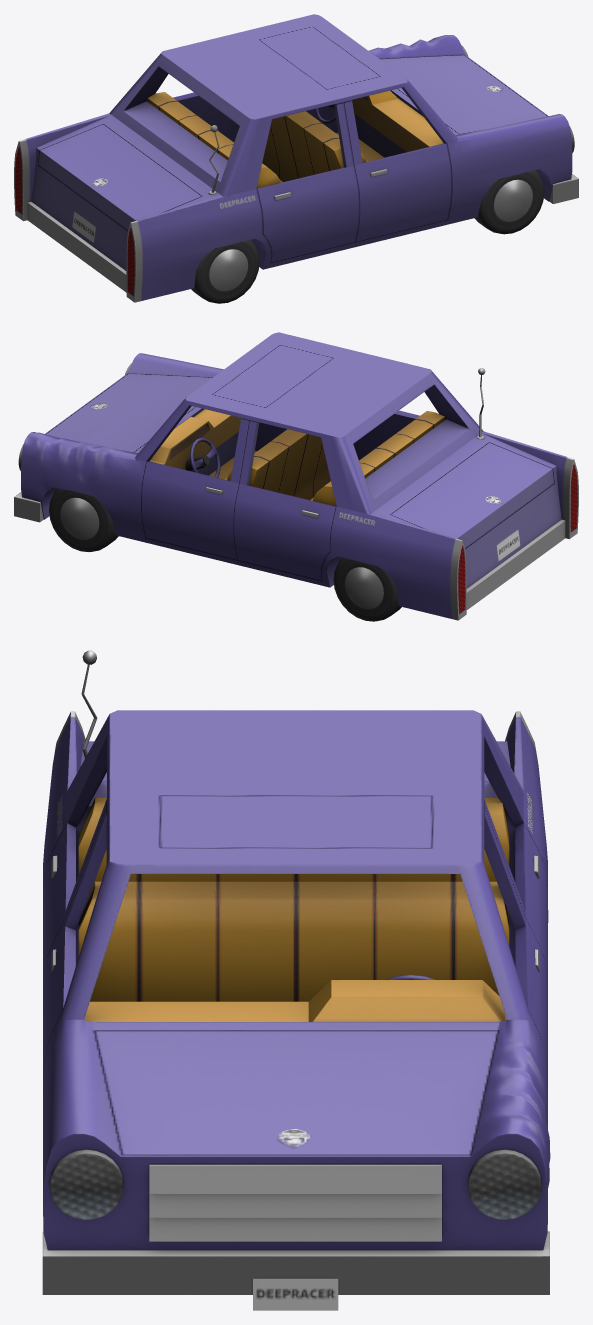
File: f1_july_car_02_with_wheel.dae
3 renders of one model, top to bottom at view 1: azimuth 30°, elevation 25°; view 2: azimuth 150°, elevation 25°; view 3: azimuth 270°, elevation 25°, orthographic. The views are drawn at different scales.
Parts seen in each view (by area): view 1: july-car-body, july-car-wheels; view 2: july-car-body, july-car-wheels; view 3: july-car-body.
Boxes of the visible parts, box(x1,y1,x2,y2) form: july-car-body: box(14, 14, 578, 302); july-car-wheels: box(191, 170, 544, 303); july-car-body: box(14, 332, 578, 620); july-car-wheels: box(49, 488, 401, 621); july-car-body: box(42, 650, 550, 1310).
Bounding box in the file's own units: 0.3361 × 0.1677 × 0.1282.
Materials: 2 (2 with a texture image).
